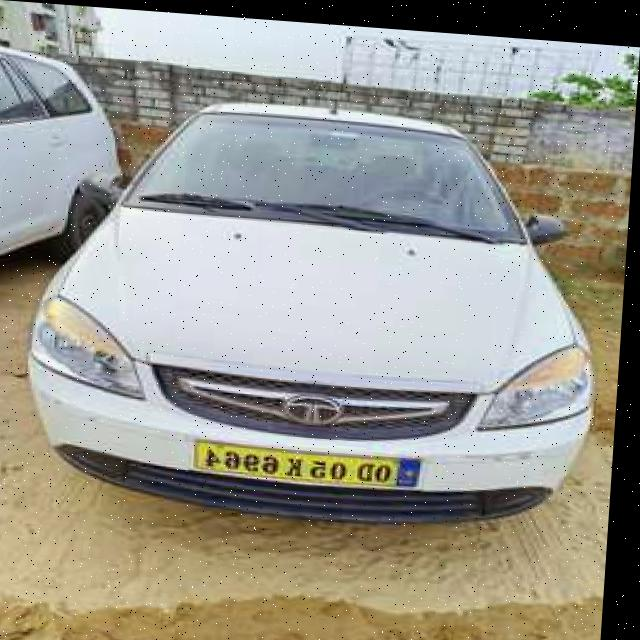plate: (197, 434, 428, 484)
